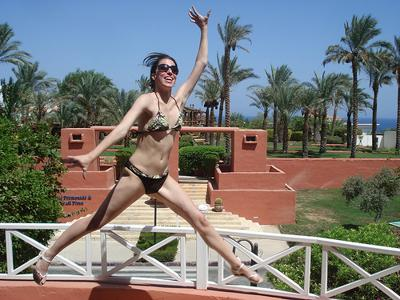person: (32, 6, 265, 286)
